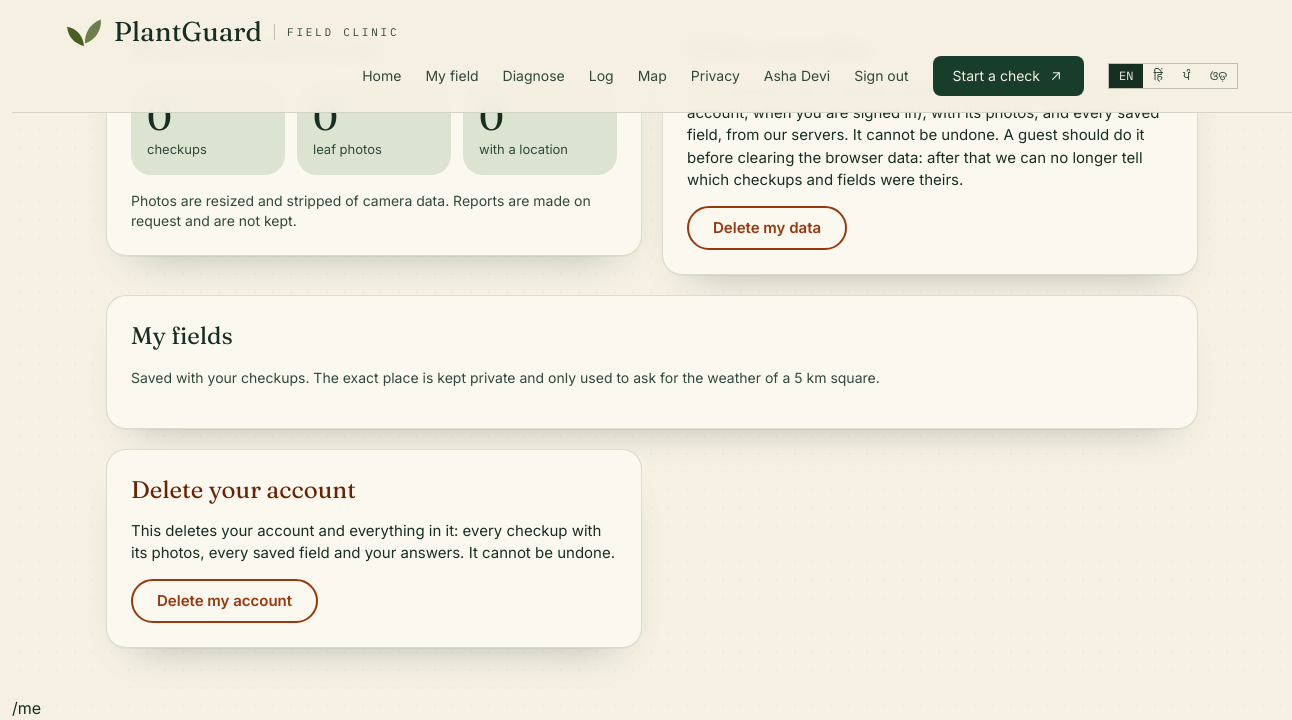
Test: Profile › an account shows its name and email, and deleting it needs the password; a wrong one changes nothing
(page scrolled)
Step 1. Click the button "Delete my account" → (224, 601), box [131,579,318,623]
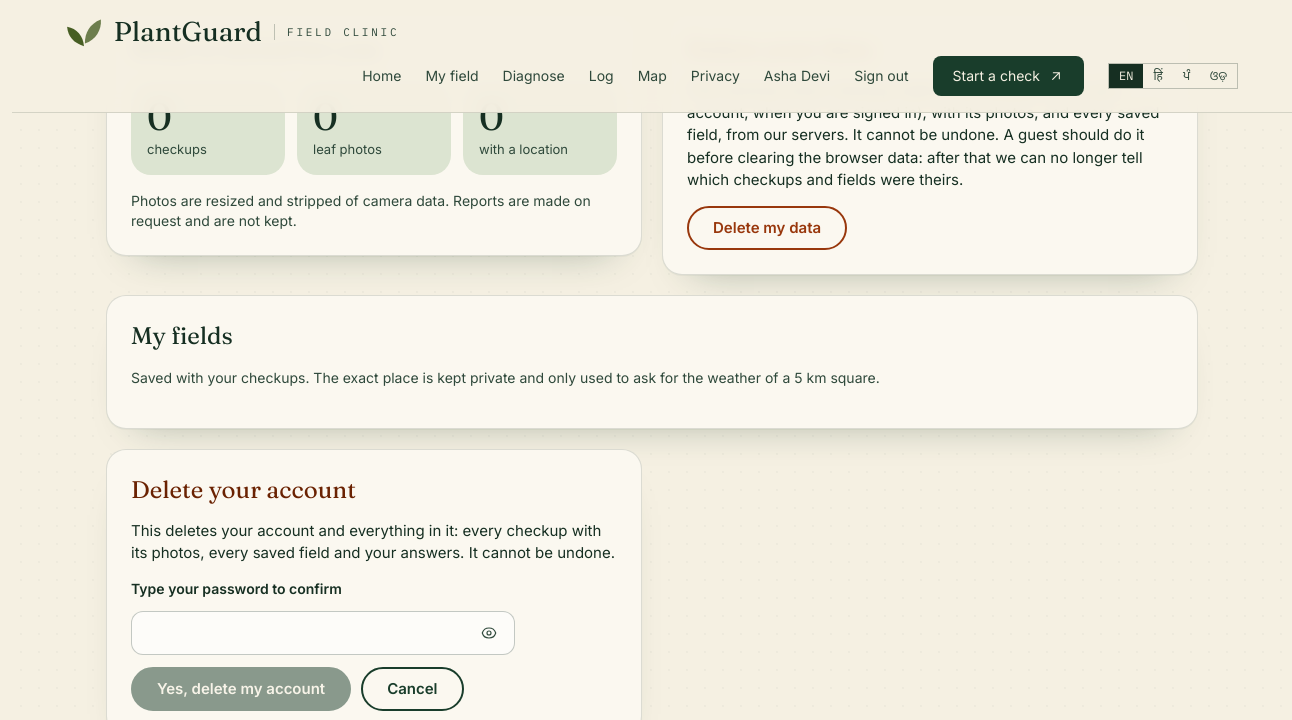
Step 2. Type "nope nope nope" into the password field labelled "Type your password to confirm" → (323, 633), box [131,611,515,655]
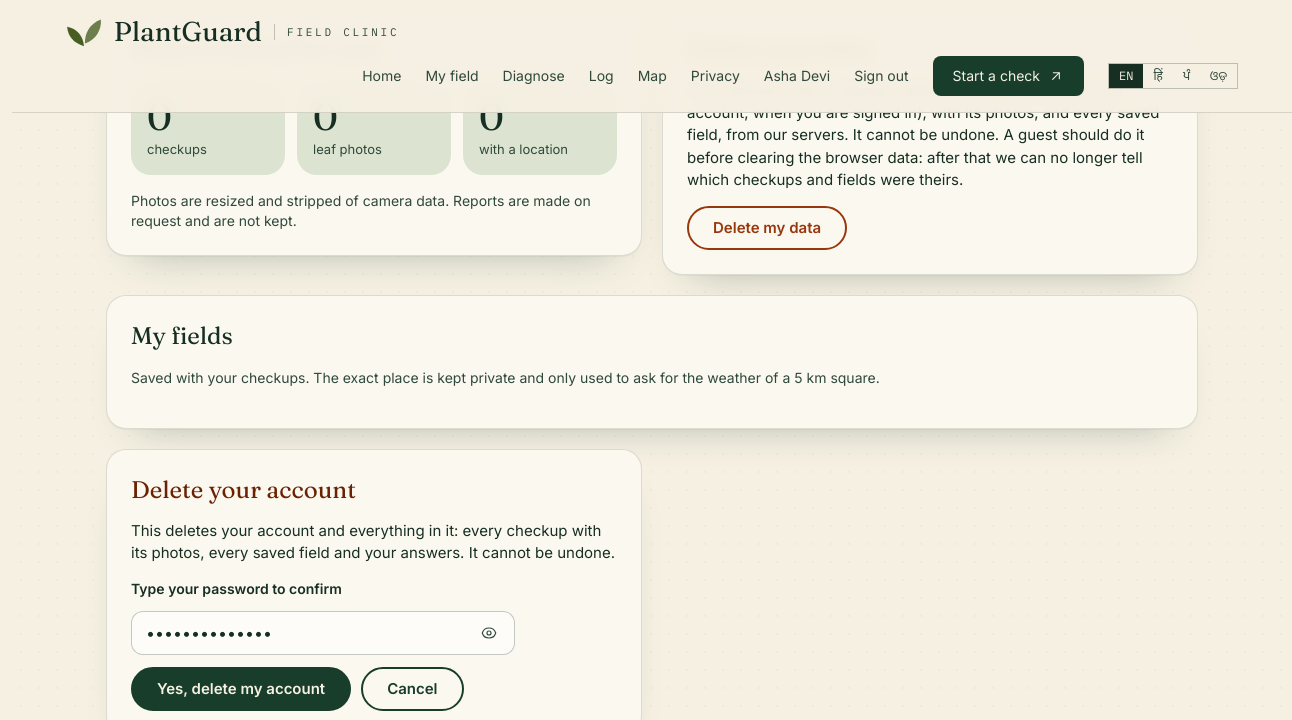
Step 3. Click the button "Yes, delete my account" → (241, 689), box [131,667,351,711]
(page scrolled)
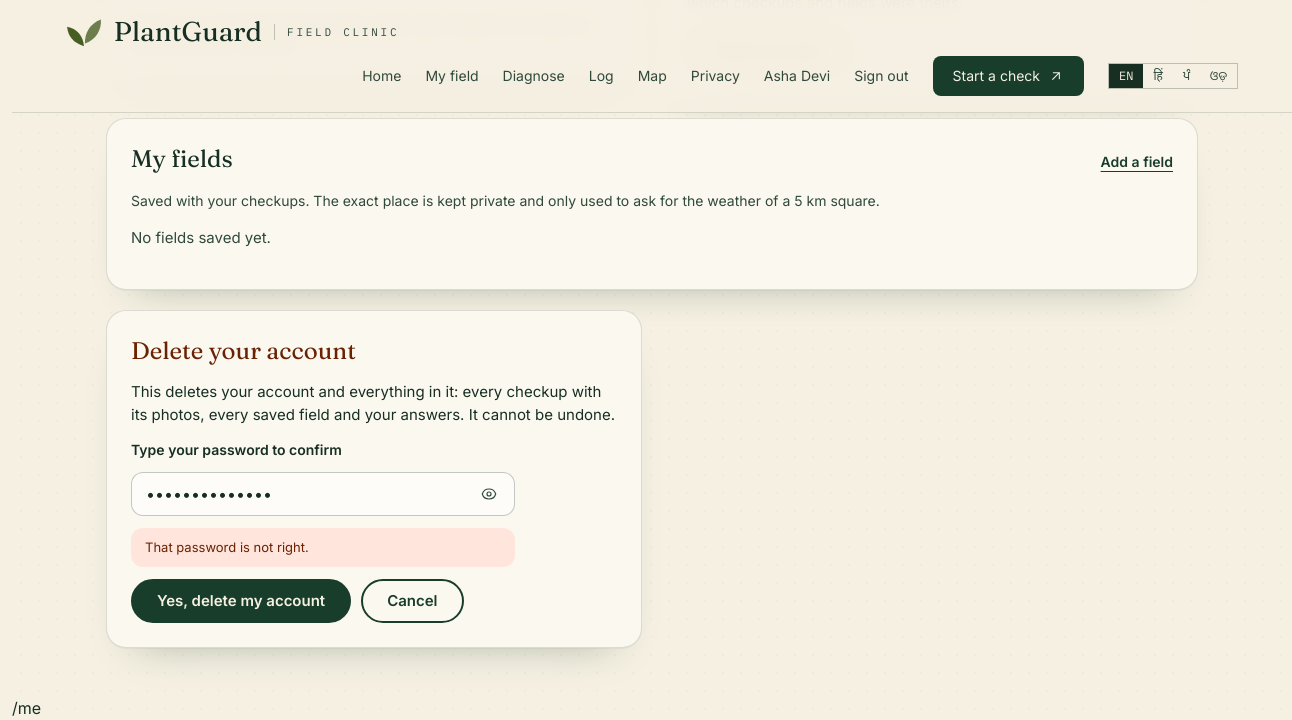
Expected: the message reads "That password is not right.", [145,539,309,555]
